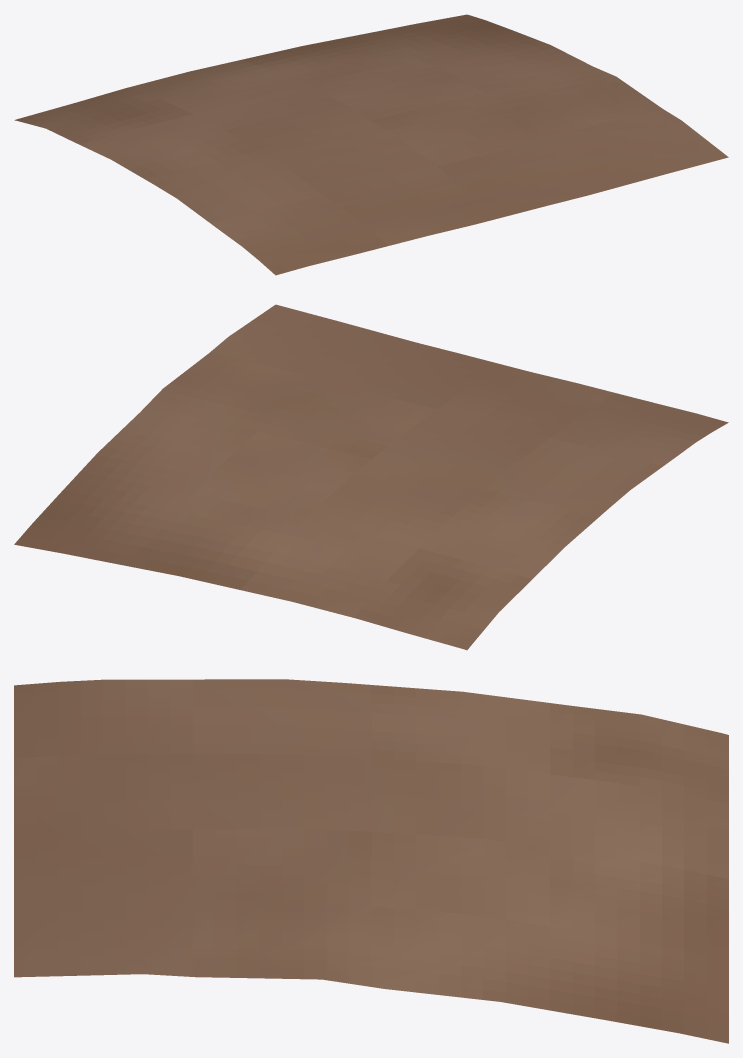
3 views of the same model, one above another, from view 1: azimuth 30°, elevation 25°; view 2: azimuth 150°, elevation 25°; view 3: azimuth 270°, elevation 25° (orthographic). The views are drawn at different scales.
Size of the model in its own units: 8 by 0.8595 by 8.
Materials: 1 (1 with a texture image).
